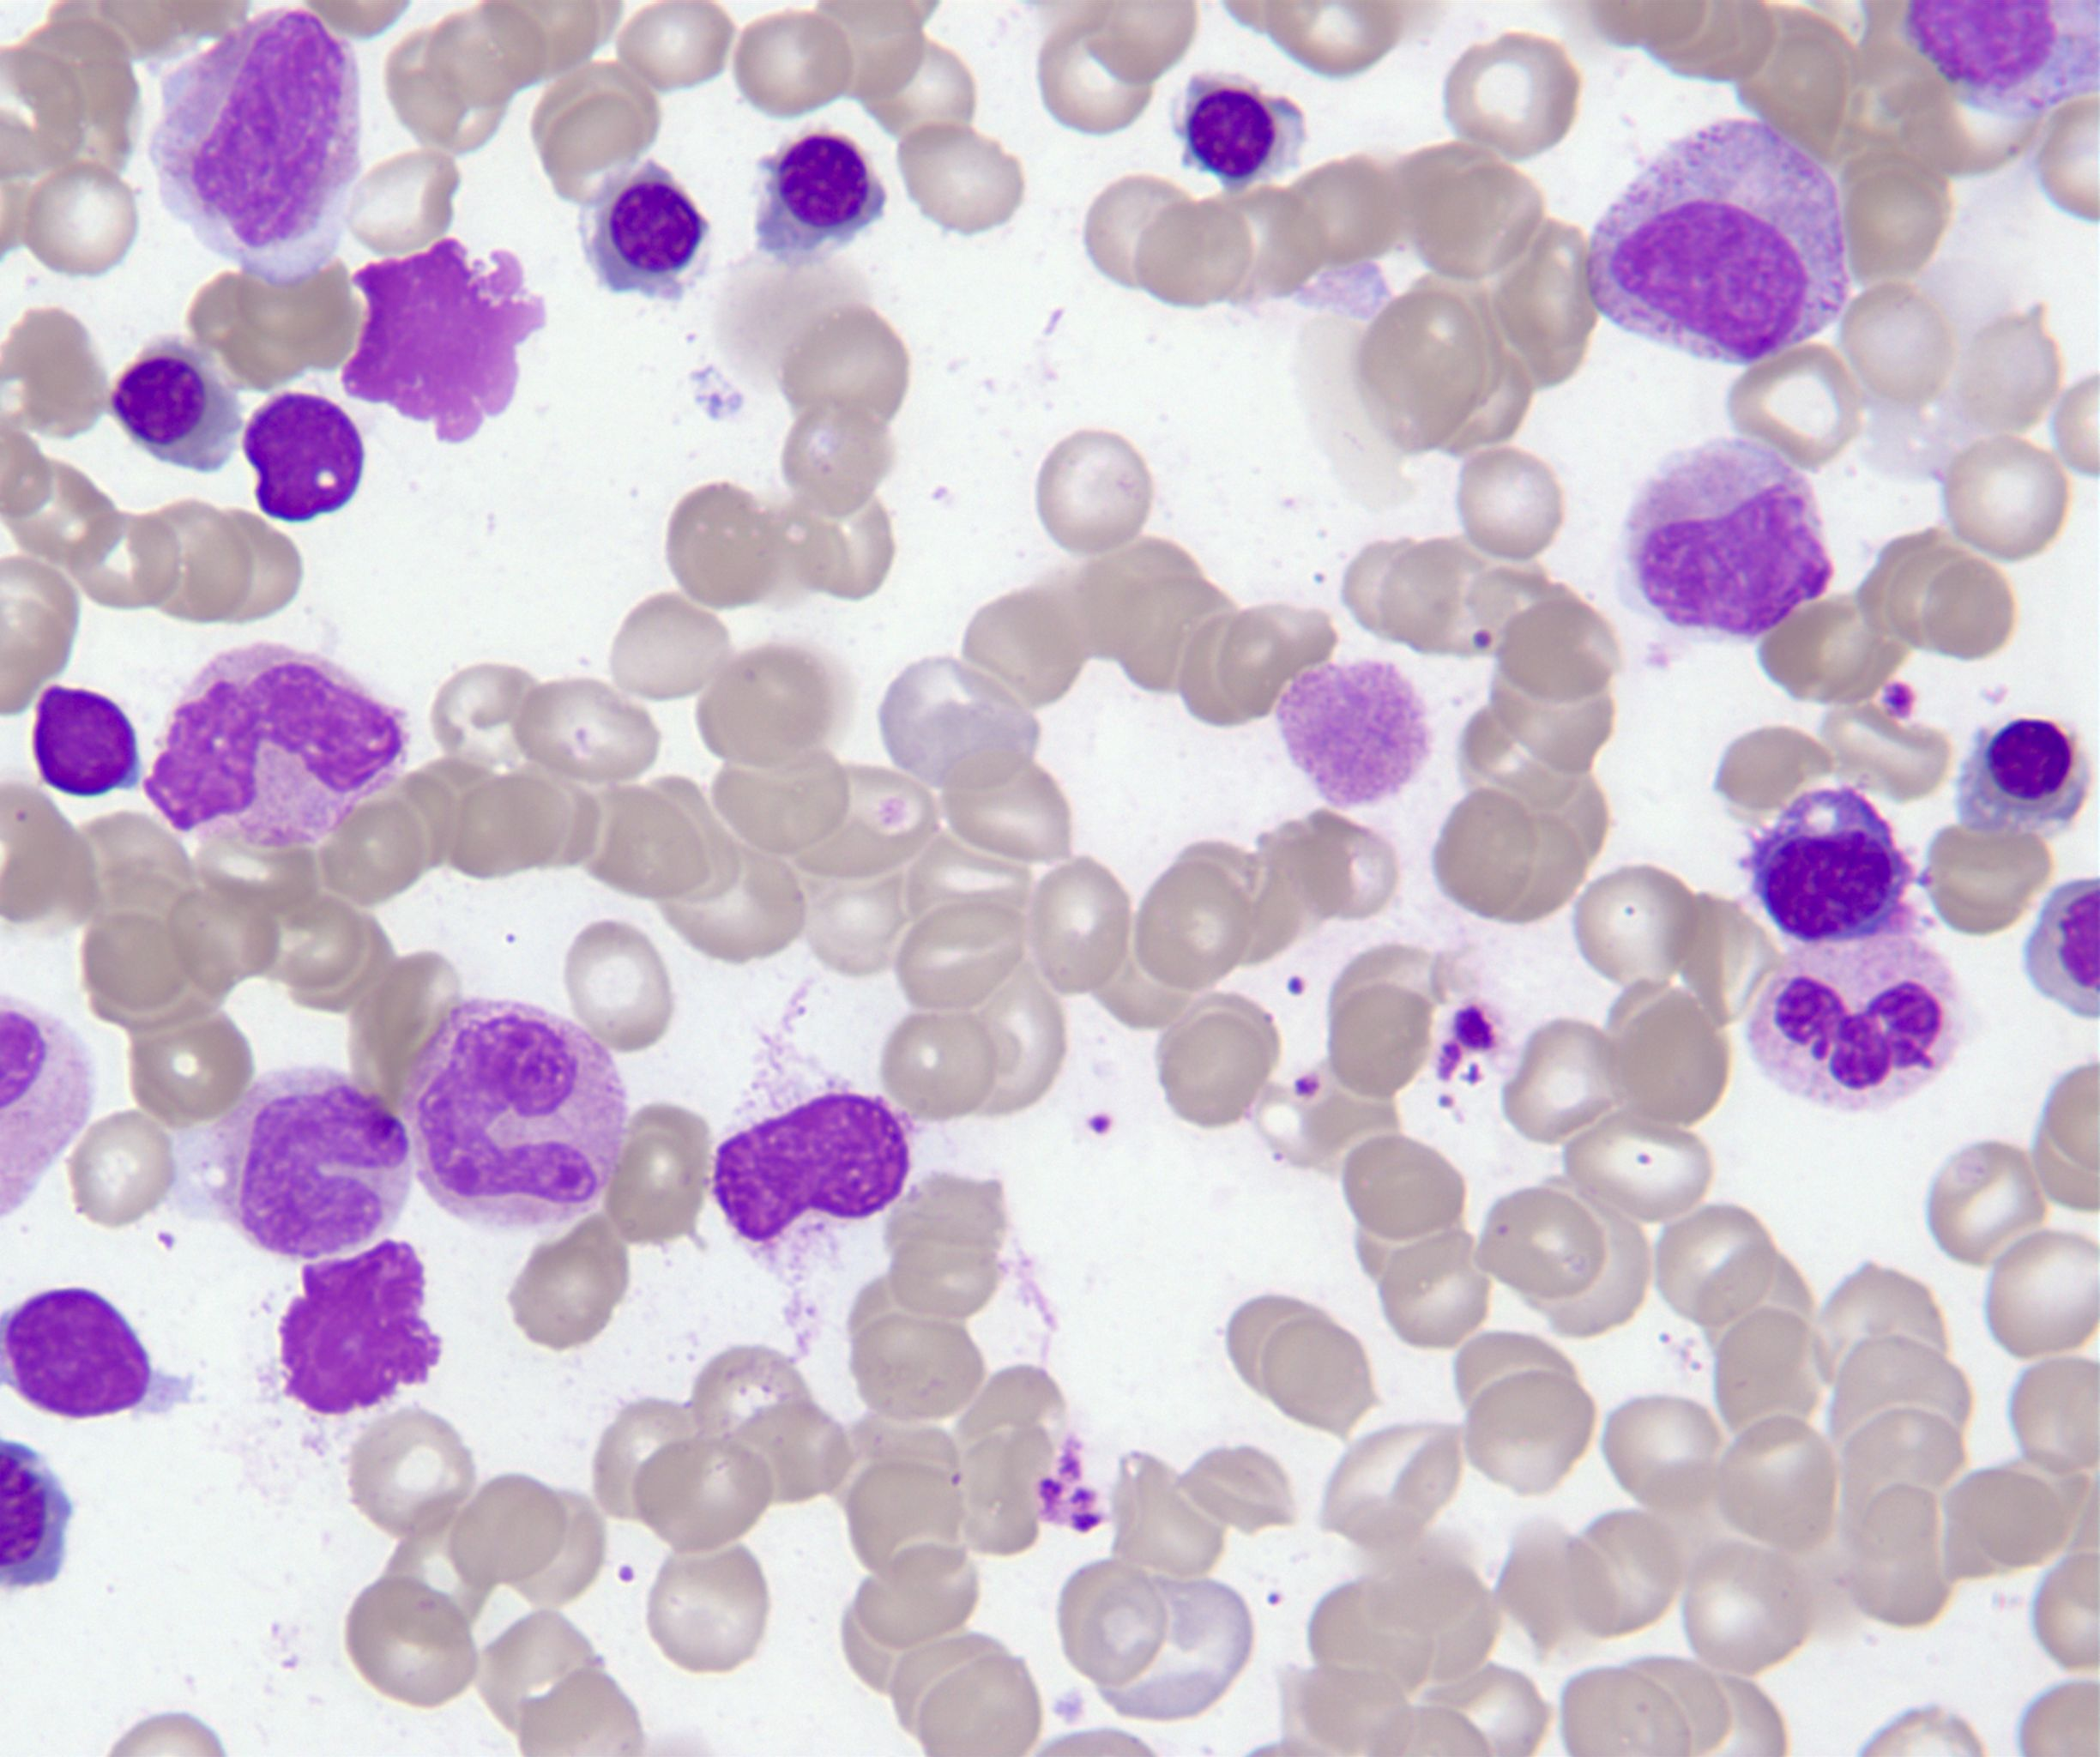23: (1732, 780, 1931, 946)
24: (576, 155, 720, 309), (101, 333, 248, 480), (748, 122, 891, 270), (1950, 707, 2093, 844), (1163, 66, 1312, 199)
3: (1578, 112, 1856, 375), (140, 61, 366, 295)
32: (0, 1282, 159, 1425), (30, 680, 145, 803)
4: (138, 639, 419, 855), (1620, 431, 1838, 646)
5: (394, 993, 633, 1241), (199, 1059, 420, 1265)
6: (1742, 940, 1974, 1124)
x: (706, 1085, 928, 1251), (272, 1234, 450, 1427), (241, 387, 375, 525)
